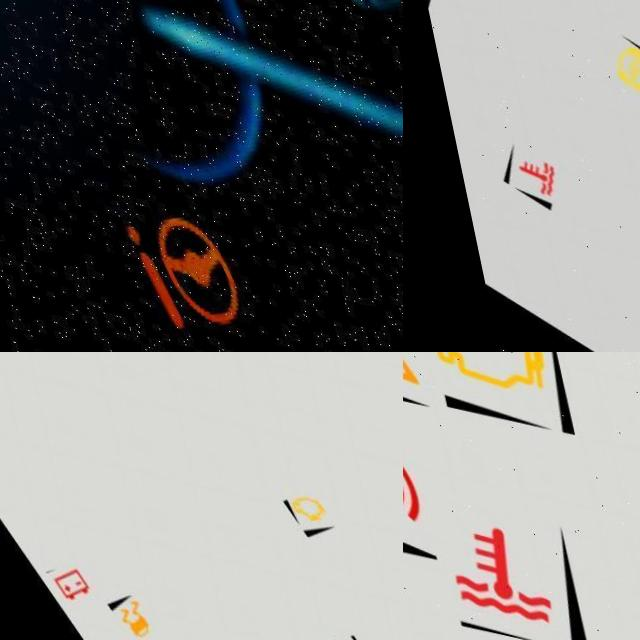Electronic Power Steering: (70, 147, 251, 352)
